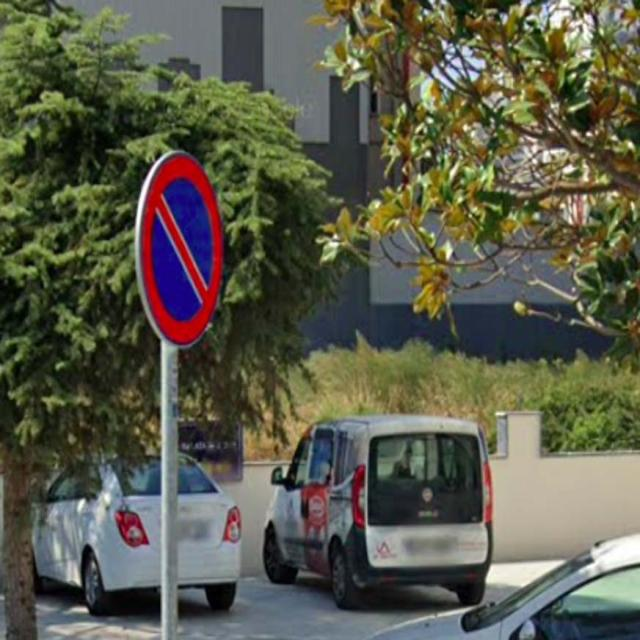parkyasak: (137, 151, 224, 346)
